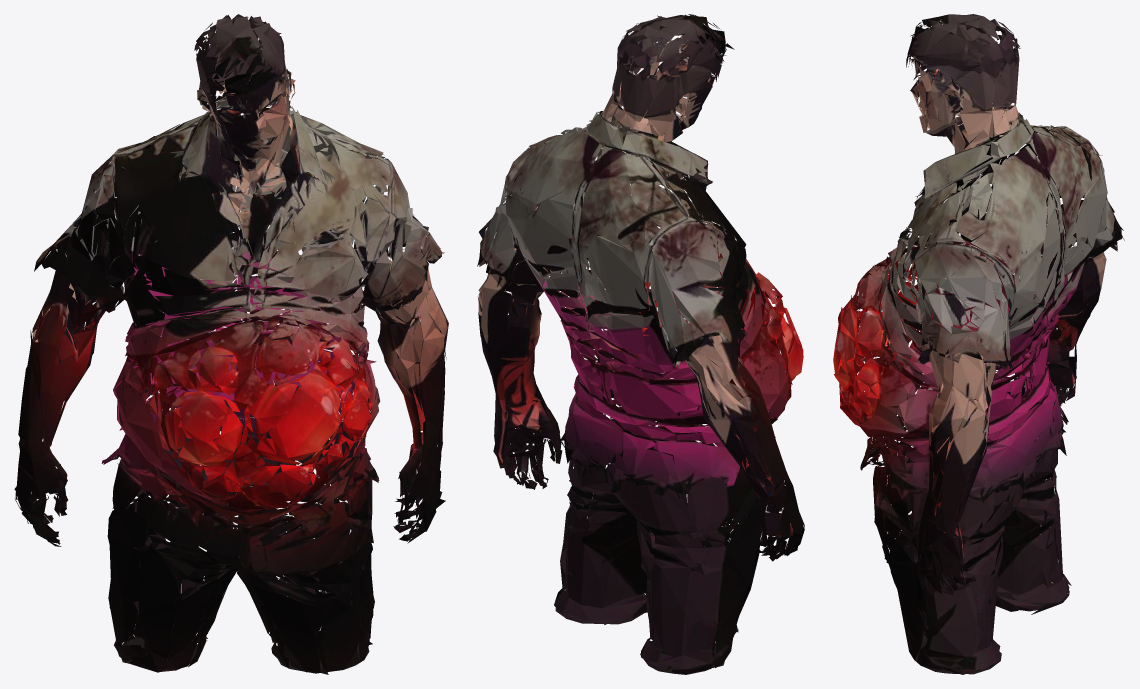
Rendered from bloater.glb.
3 views of the same model, side by side, from view 1: azimuth 30°, elevation 25°; view 2: azimuth 150°, elevation 25°; view 3: azimuth 270°, elevation 25° (orthographic). The views are drawn at different scales.
Parts seen in each view (by area): view 1: world; view 2: world; view 3: world.
Part boxes in pixels (bbox=[...]): world: bbox=[14, 14, 448, 674]; world: bbox=[477, 14, 804, 674]; world: bbox=[833, 14, 1124, 674].
Size of the model in its own units: 1.21 by 1.99 by 0.8709.
Materials: 1 (1 with a texture image).
